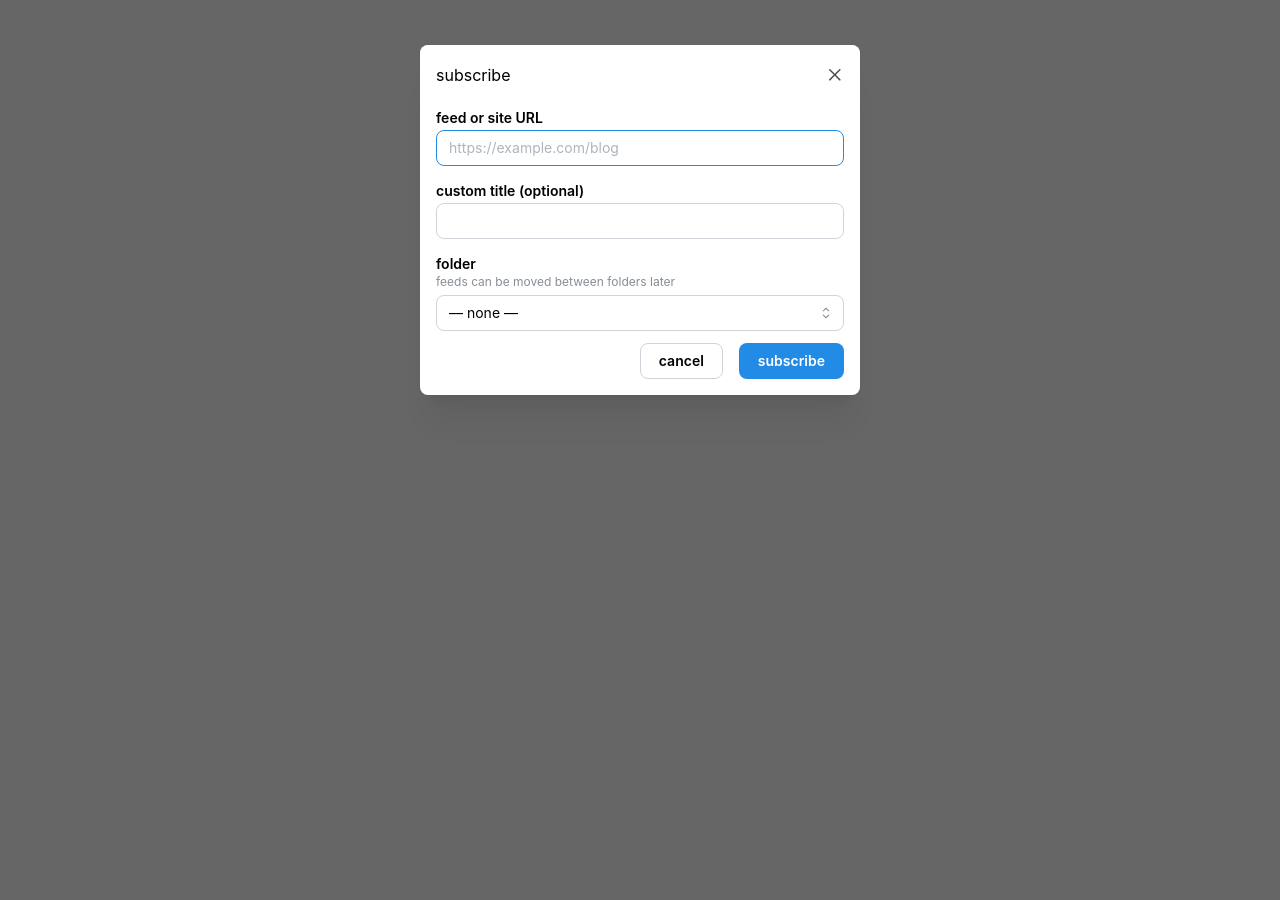
Test: SubscribeModal › shows a generic error and keeps the dialog open when adding fails
Type "https://example.com/not-a-feed" into the field labelled "feed or site URL" at [640, 148], box [436,130,844,166]
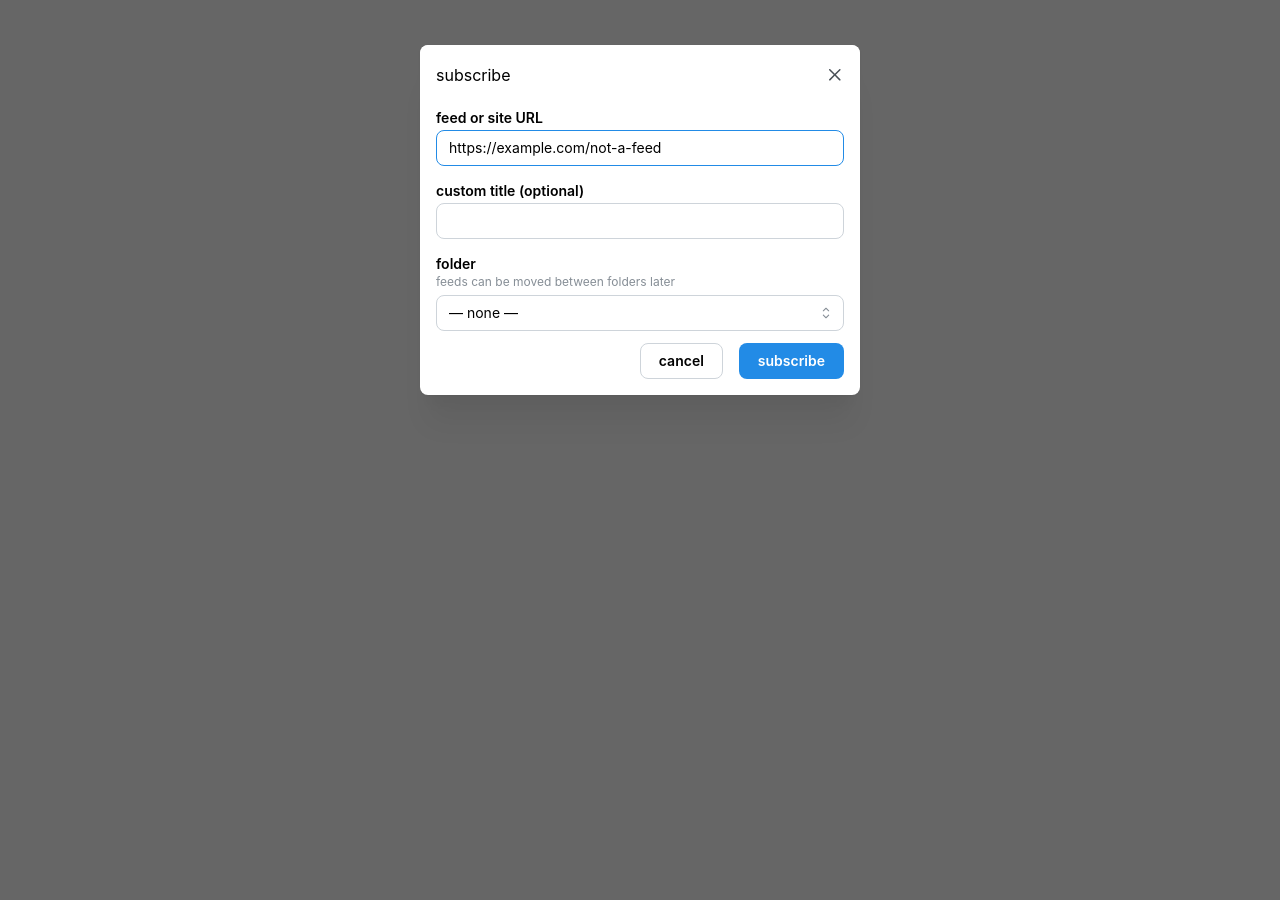
Click the button "subscribe" at [791, 361], box [739,343,844,379]
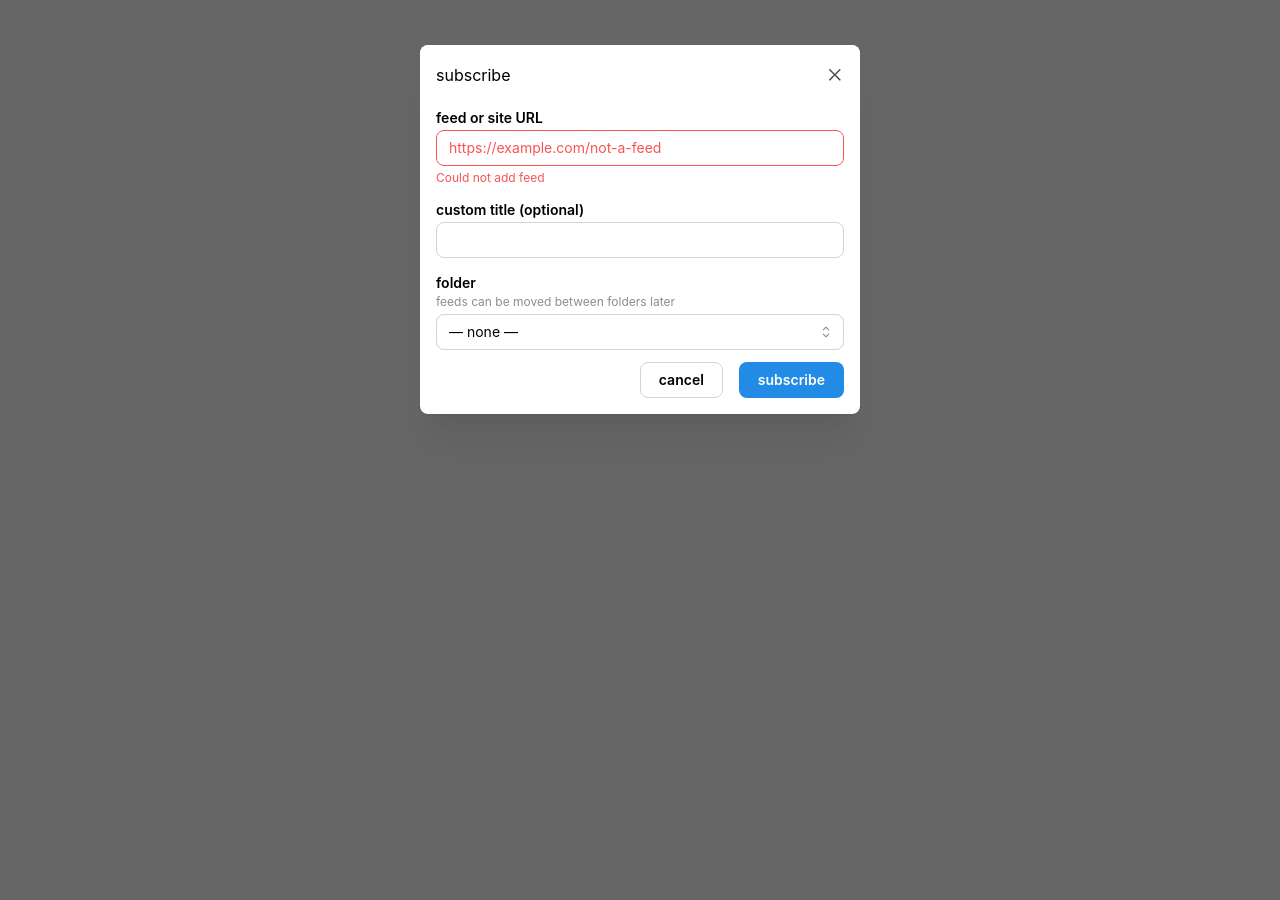
Expected: the text "Could not add feed" is shown, [436,170,544,185]
